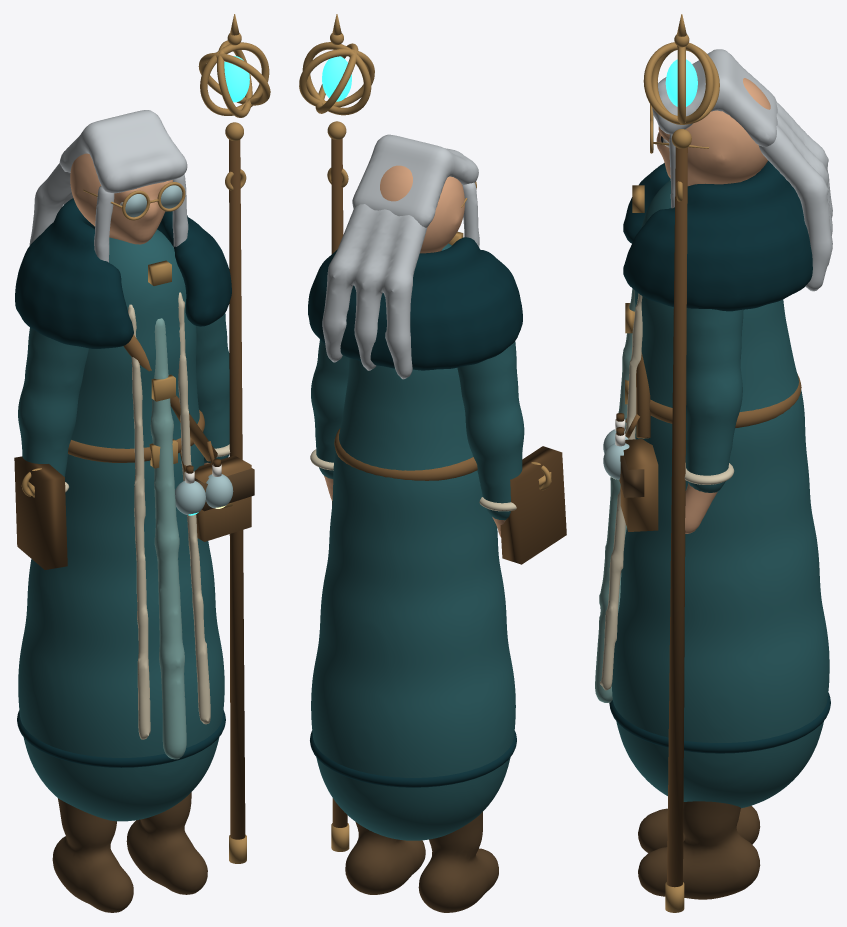
File: 3D模型 char_mage.glb
3 renders of one model, left to right at view 1: azimuth 30°, elevation 25°; view 2: azimuth 150°, elevation 25°; view 3: azimuth 270°, elevation 25°, orthographic. The views are drawn at different scales.
Parts seen in each view (by area): view 1: char_mage_robe.001, char_mage_mantle.001, char_mage_sleeves.001, char_mage_boots.001, char_mage_slit.001, char_mage_pole, char_mage_trim.001, char_mage_hair.001, char_mage_cover, char_mage_hairlong.001, char_mage_body, char_mage_satchel (+12 smaller); view 2: char_mage_robe.001, char_mage_mantle.001, char_mage_hairlong.001, char_mage_sleeves.001, char_mage_boots.001, char_mage_hair.001, char_mage_cover, char_mage_body, char_mage_hem, char_mage_belt, char_mage_pole, char_mage_orb0 (+3 smaller); view 3: char_mage_robe.001, char_mage_mantle.001, char_mage_pole, char_mage_boots.001, char_mage_sleeves.001, char_mage_body, char_mage_hairlong.001, char_mage_hair.001, char_mage_trim.001, char_mage_slit.001, char_mage_satchel, char_mage_hem (+10 smaller).
Part boxes in pixels (<box>): char_mage_robe.001: <box>18,229,224,821</box>; char_mage_mantle.001: <box>15,198,231,348</box>; char_mage_sleeves.001: <box>18,313,229,476</box>; char_mage_boots.001: <box>52,792,207,912</box>; char_mage_slit.001: <box>150,318,186,759</box>; char_mage_pole: <box>229,139,245,839</box>; char_mage_trim.001: <box>128,292,210,739</box>; char_mage_hair.001: <box>59,110,187,193</box>; char_mage_cover: <box>14,456,67,569</box>; char_mage_hairlong.001: <box>29,163,188,262</box>; char_mage_body: <box>70,153,209,464</box>; char_mage_satchel: <box>194,455,251,541</box>; char_mage_robe.001: <box>311,243,515,840</box>; char_mage_mantle.001: <box>308,237,522,370</box>; char_mage_hairlong.001: <box>322,182,479,379</box>; char_mage_sleeves.001: <box>311,340,524,520</box>; char_mage_boots.001: <box>345,812,498,912</box>; char_mage_hair.001: <box>352,134,478,227</box>; char_mage_cover: <box>500,446,566,564</box>; char_mage_body: <box>324,165,505,537</box>; char_mage_hem: <box>310,730,516,787</box>; char_mage_belt: <box>334,428,477,480</box>; char_mage_pole: <box>331,138,347,827</box>; char_mage_orb0: <box>302,42,371,115</box>; char_mage_robe.001: <box>611,180,829,808</box>; char_mage_mantle.001: <box>623,160,812,311</box>; char_mage_pole: <box>667,147,687,887</box>; char_mage_boots.001: <box>638,801,760,899</box>; char_mage_sleeves.001: <box>672,307,743,492</box>; char_mage_body: <box>656,78,770,533</box>; char_mage_hairlong.001: <box>669,102,832,291</box>; char_mage_hair.001: <box>652,49,777,146</box>; char_mage_trim.001: <box>599,293,642,690</box>; char_mage_slit.001: <box>595,288,635,702</box>; char_mage_satchel: <box>620,439,658,531</box>; char_mage_hem: <box>609,692,830,753</box>.
Bounding box in the file's own units: 0.6034 × 2 × 0.4718.
